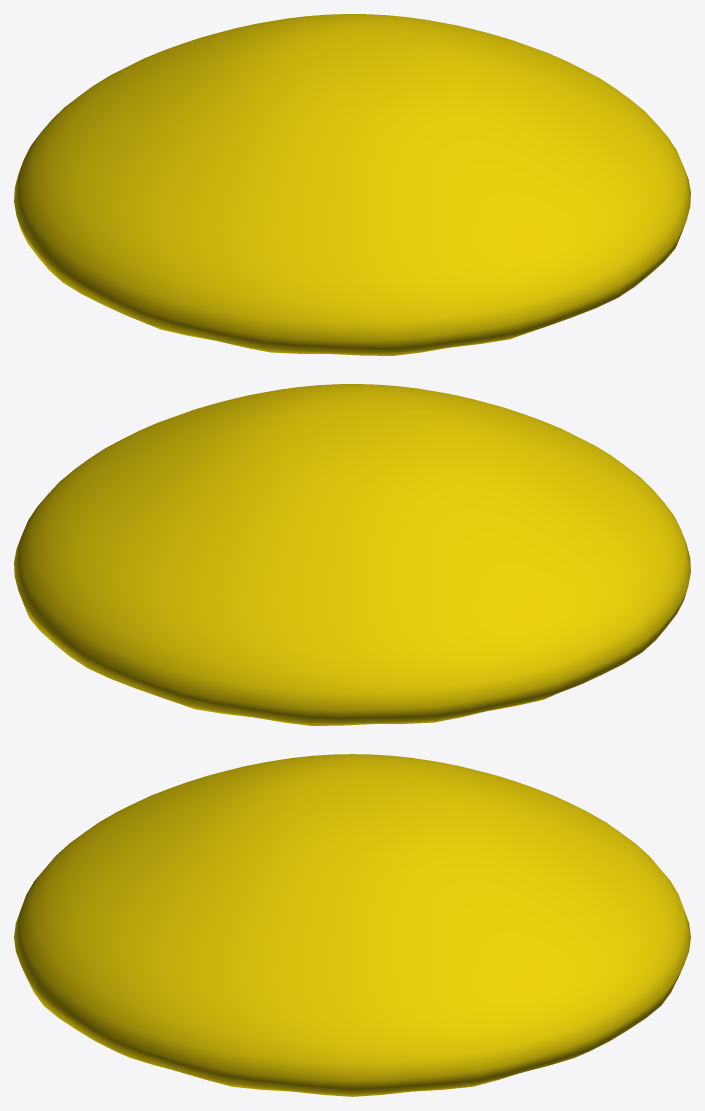
Rendered from FlowerPollen2.fbx.
3 views of the same model, one above another, from view 1: azimuth 30°, elevation 25°; view 2: azimuth 150°, elevation 25°; view 3: azimuth 270°, elevation 25° (orthographic).
Visible parts, largest first — view 1: Pollen2; view 2: Pollen2; view 3: Pollen2.
Boxes of the visible parts, <box> form: Pollen2: <box>14,14,690,355</box>; Pollen2: <box>14,384,690,725</box>; Pollen2: <box>14,754,690,1096</box>.
Size of the model in its own units: 14.08 by 4.39 by 14.08.
